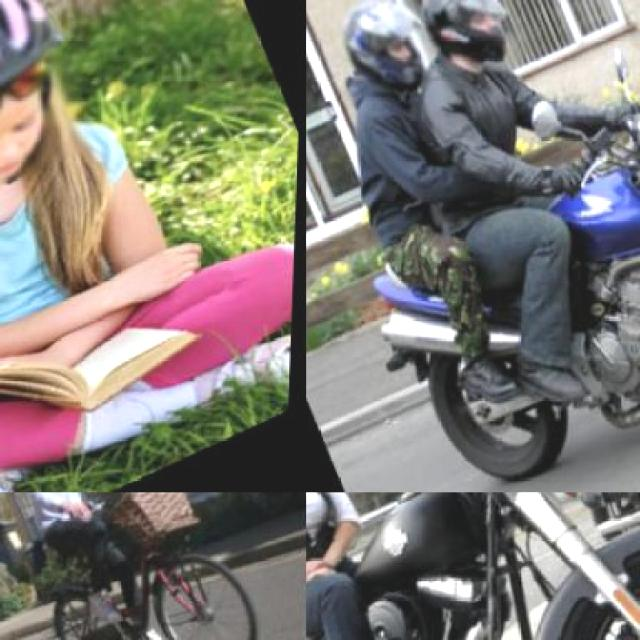With Helmet: (0, 0, 111, 234), (325, 0, 446, 109), (404, 0, 535, 92)
